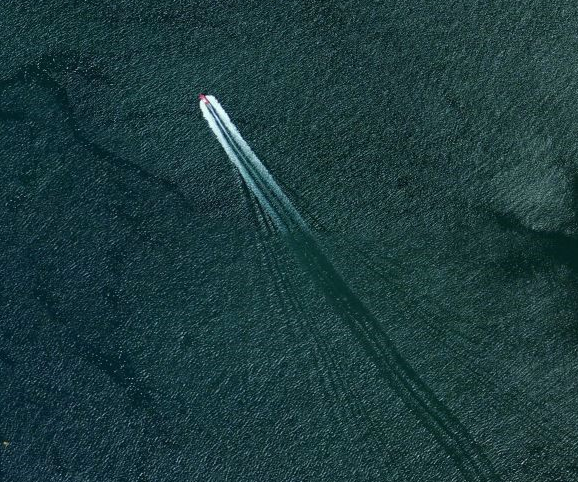ship: (196, 91, 212, 108)
